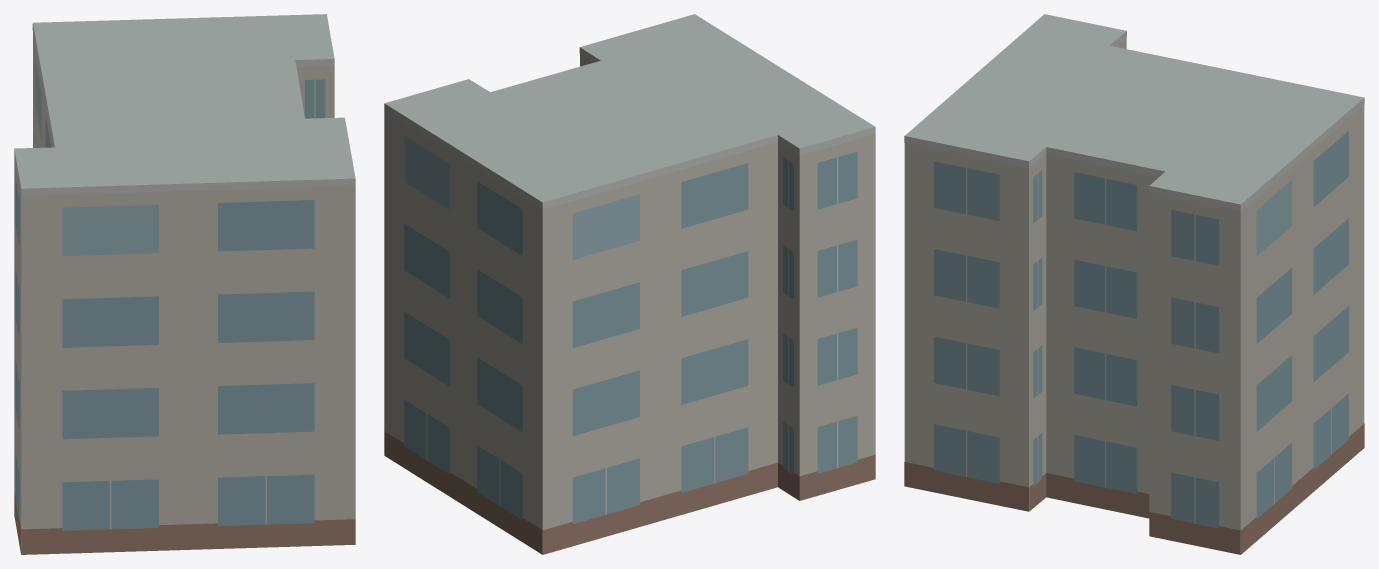
File: survey-upis-32902688.glb
3 renders of one model, left to right at view 1: azimuth 30°, elevation 25°; view 2: azimuth 150°, elevation 25°; view 3: azimuth 270°, elevation 25°, orthographic. The views are drawn at different scales.
Visible parts, largest first — view 1: survey-upis-32902688.tmp; view 2: survey-upis-32902688.tmp; view 3: survey-upis-32902688.tmp.
Part boxes in pixels (left/top/right/bottom): survey-upis-32902688.tmp: left=14, top=14, right=355, bottom=554; survey-upis-32902688.tmp: left=384, top=14, right=875, bottom=554; survey-upis-32902688.tmp: left=904, top=14, right=1364, bottom=554.
Size of the model in its own units: 14.35 by 12.3 by 14.64.
